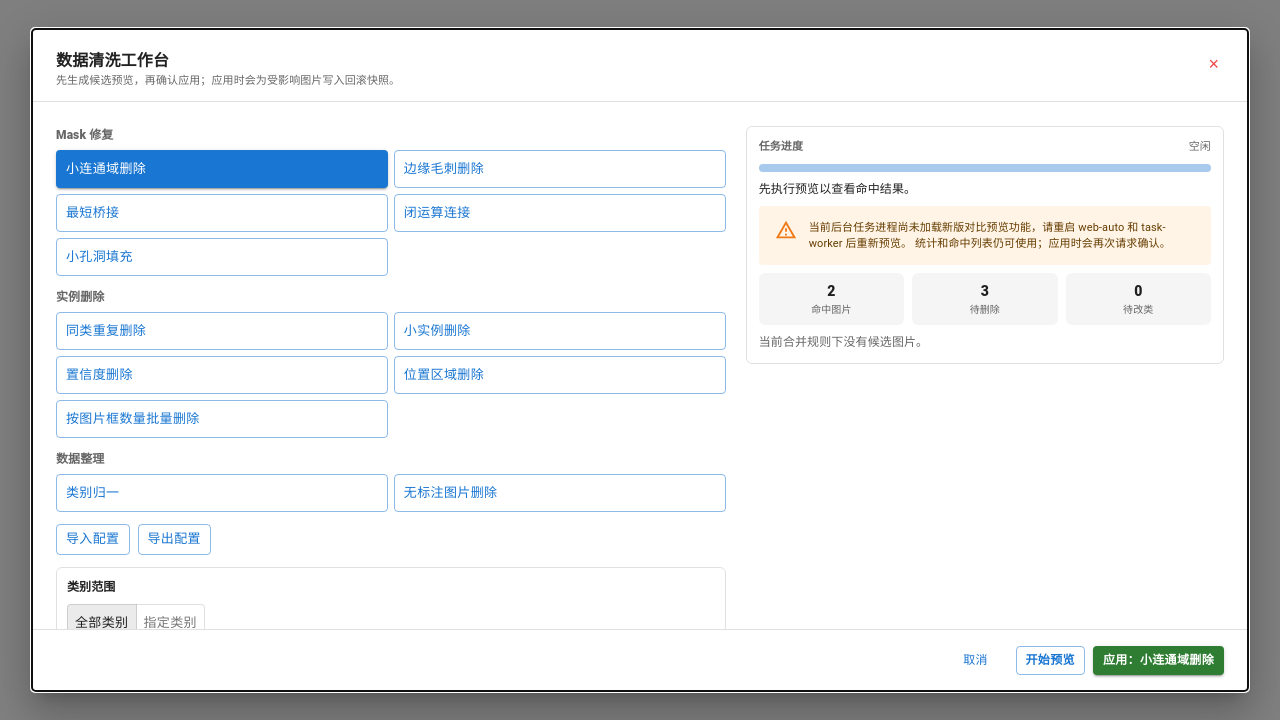
Test: data cleaning workbench › warns but permits confirmation when an old worker returned no artwork status
Expected: the text "尚未加载新版对比预览功能" is shown, [809,221,1166,250]
Click the button "应用：小连通域删除": (1158, 661) [1093,646,1224,675]
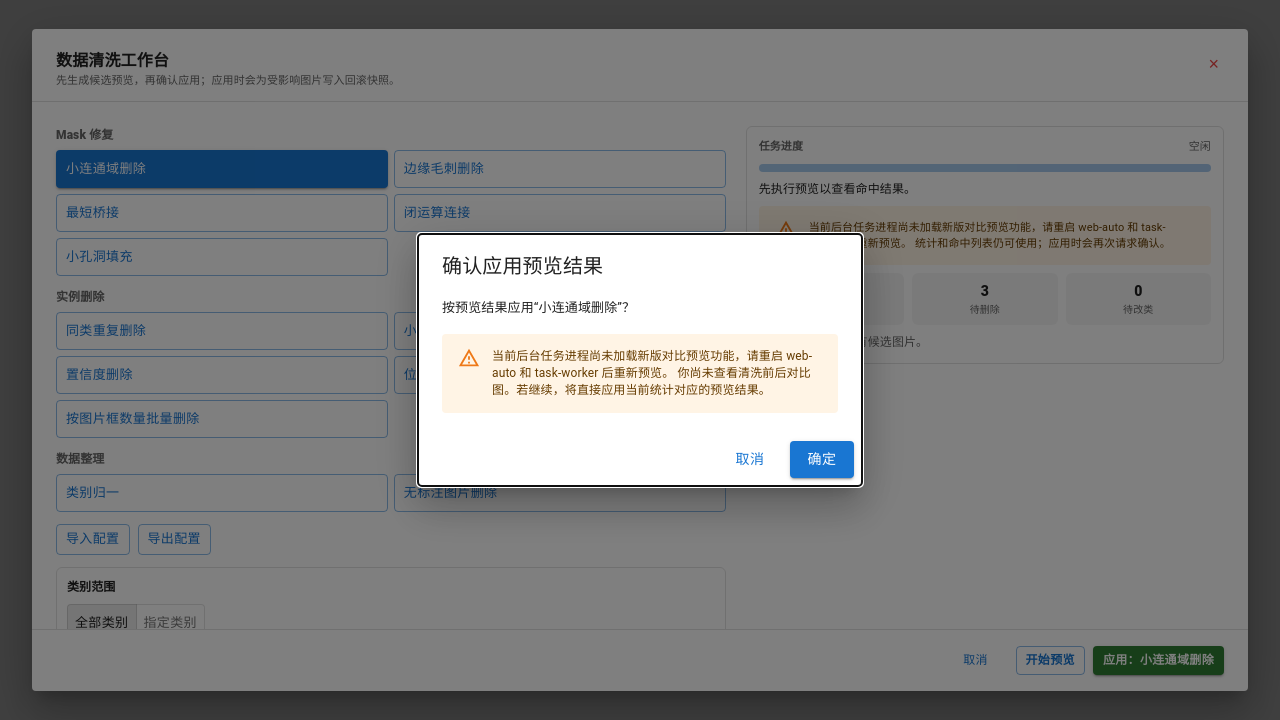
Now the dialog "确认应用预览结果" is shown, box [418,234,862,486]
Now the text "你尚未查看清洗前后对比图" is shown, box [492,366,811,397]
Now the button "确定" is enabled, box [790,441,854,478]
